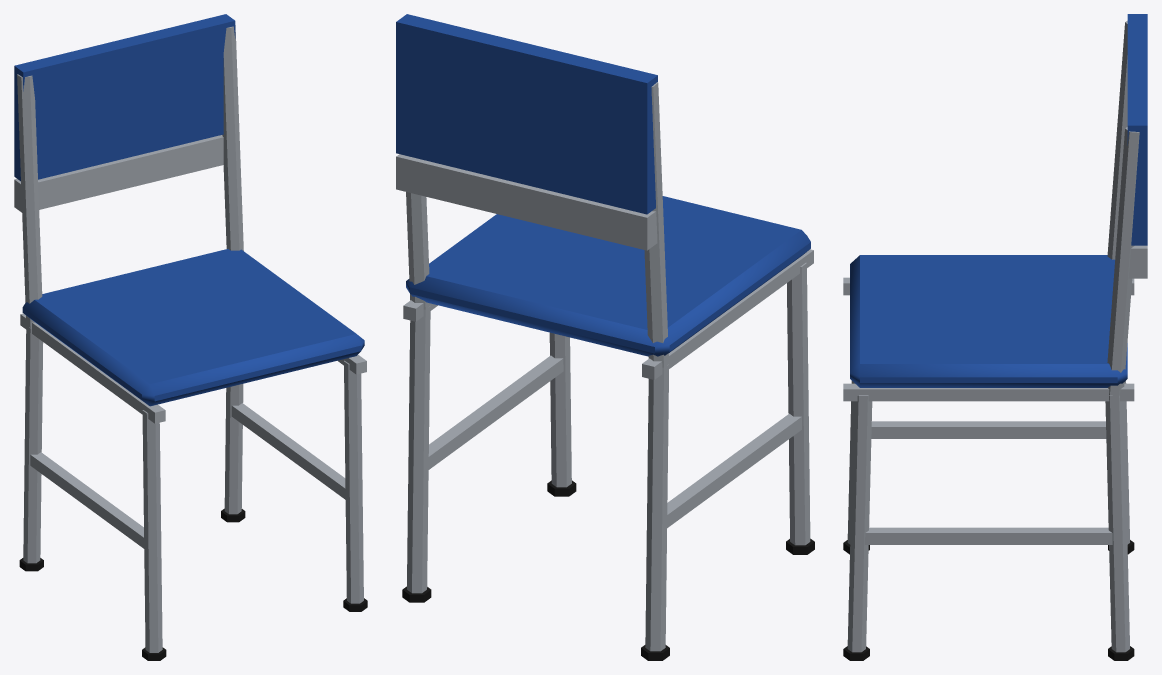
The model's file is chair_mess_chair.glb.
3 views of the same model, side by side, from view 1: azimuth 30°, elevation 25°; view 2: azimuth 150°, elevation 25°; view 3: azimuth 270°, elevation 25° (orthographic). The views are drawn at different scales.
Parts seen in each view (by area): view 1: chair_mess_chair; view 2: chair_mess_chair; view 3: chair_mess_chair.
Boxes of the visible parts, box(x1,y1,x2,y2) form: chair_mess_chair: box(14, 14, 367, 660); chair_mess_chair: box(396, 14, 814, 660); chair_mess_chair: box(843, 14, 1147, 660).
Bounding box in the file's own units: 0.42 × 0.8903 × 0.46.
